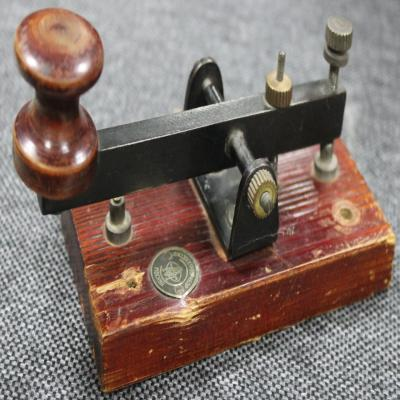technique: (12, 8, 396, 394)
